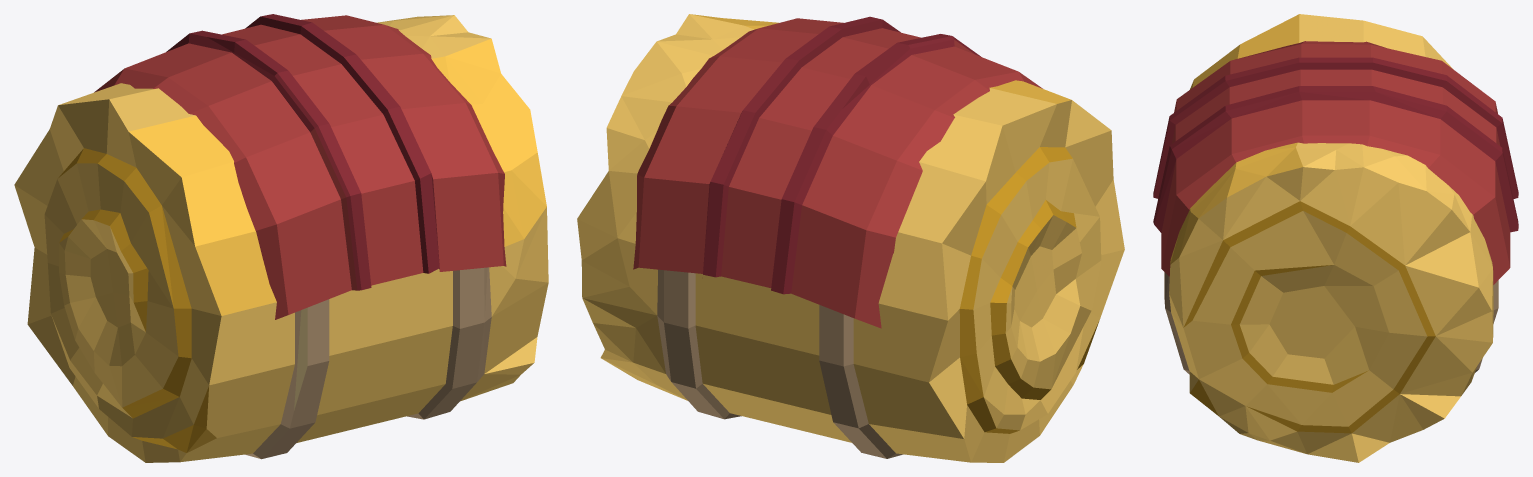
File: EA_Furniture_HayBaleSeat_01a.fbx
The picture shows the model from 3 angles, left to right: view 1: azimuth 30°, elevation 25°; view 2: azimuth 150°, elevation 25°; view 3: azimuth 270°, elevation 25°; orthographic projection. The views are drawn at different scales.
Visible parts, largest first — view 1: EA_Furniture_HayBaleSeat_01a_LOD0; view 2: EA_Furniture_HayBaleSeat_01a_LOD0; view 3: EA_Furniture_HayBaleSeat_01a_LOD0.
Boxes of the visible parts, x1,y1,x2,y2 form: EA_Furniture_HayBaleSeat_01a_LOD0: (14, 14, 548, 462); EA_Furniture_HayBaleSeat_01a_LOD0: (577, 14, 1124, 462); EA_Furniture_HayBaleSeat_01a_LOD0: (1153, 14, 1518, 462).
Size of what is drawn, in the model's own units: 1.84 by 1.64 by 1.72.
